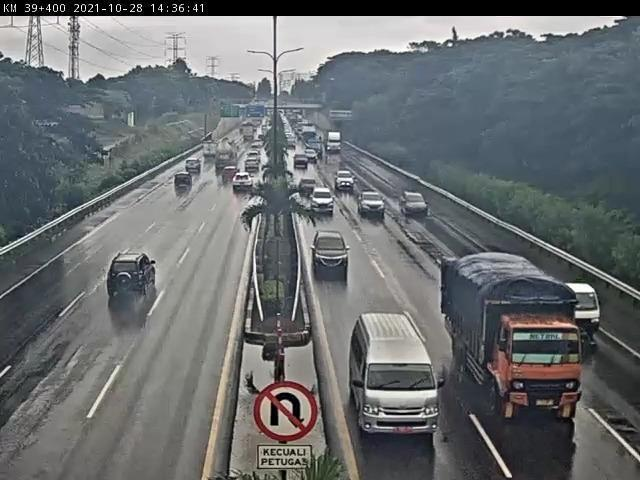bus: (370, 333, 428, 421)
car: (99, 244, 167, 315), (574, 278, 601, 332), (318, 230, 354, 268), (356, 180, 380, 222), (165, 175, 195, 201), (309, 182, 335, 206), (339, 163, 359, 189), (401, 195, 417, 220), (235, 171, 252, 192), (180, 160, 191, 180)
truck: (471, 282, 587, 425)
